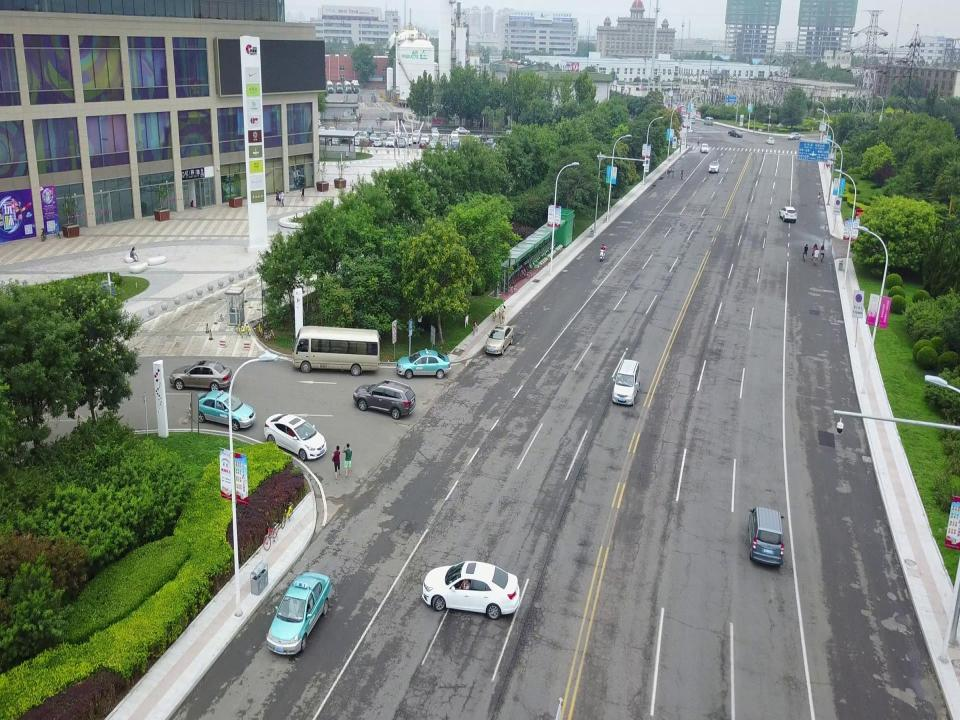car: (412, 559, 528, 627), (262, 567, 334, 656), (741, 496, 787, 573), (185, 387, 257, 434), (263, 413, 327, 463), (351, 379, 418, 423), (169, 357, 233, 392), (608, 356, 647, 412), (394, 347, 452, 381), (484, 320, 514, 358), (777, 203, 797, 224), (537, 248, 552, 263), (396, 133, 412, 147), (519, 264, 533, 279), (523, 259, 539, 272), (530, 252, 546, 265), (504, 280, 518, 294), (540, 244, 554, 258), (547, 239, 559, 254), (517, 267, 531, 279), (536, 251, 548, 265), (546, 241, 562, 251), (455, 126, 471, 136), (530, 256, 542, 269), (532, 254, 544, 267), (707, 160, 719, 173), (330, 132, 342, 145), (541, 245, 555, 256), (372, 136, 384, 148), (318, 134, 330, 146), (542, 245, 556, 255), (728, 129, 742, 139), (787, 131, 803, 139), (533, 256, 547, 265), (549, 241, 563, 250), (548, 242, 560, 252), (397, 136, 407, 148), (410, 132, 420, 143), (312, 118, 322, 129), (484, 138, 496, 147), (418, 139, 428, 149), (412, 128, 422, 138), (384, 136, 394, 146), (362, 137, 372, 147), (345, 126, 355, 136), (478, 134, 490, 142), (379, 130, 387, 142), (360, 131, 370, 140), (369, 131, 377, 142), (327, 125, 335, 136), (765, 135, 774, 144), (701, 144, 709, 154), (688, 113, 696, 123), (451, 140, 459, 150), (430, 135, 440, 143), (421, 134, 429, 144), (389, 132, 397, 142), (318, 124, 326, 134), (802, 248, 808, 260), (450, 130, 458, 139), (440, 140, 448, 149), (429, 140, 437, 149), (432, 129, 440, 138), (394, 129, 402, 138), (366, 126, 374, 135), (353, 136, 361, 145), (441, 135, 449, 143)
truck: (350, 79, 360, 94), (343, 80, 351, 94), (335, 81, 343, 94), (326, 80, 333, 94)
van: (288, 325, 384, 374), (702, 116, 714, 127)
